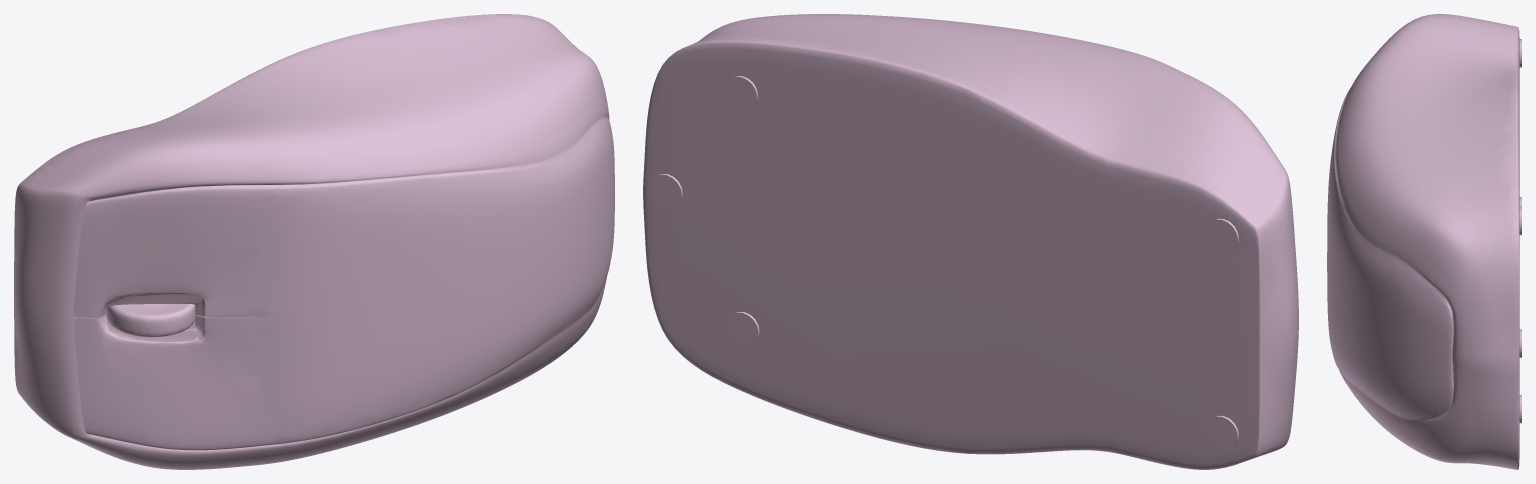
The model's file is gjhfgjfggh.fbx.
3 renders of one model, left to right at view 1: azimuth 30°, elevation 25°; view 2: azimuth 150°, elevation 25°; view 3: azimuth 270°, elevation 25°, orthographic. The views are drawn at different scales.
Visible parts, largest first — view 1: Cube_001; view 2: Cube_001; view 3: Cube_001.
Boxes of the visible parts, left/top/right/bottom form: Cube_001: left=14, top=14, right=614, bottom=469; Cube_001: left=643, top=14, right=1298, bottom=469; Cube_001: left=1327, top=14, right=1521, bottom=469.
Bounding box in the file's own units: 10.09 × 5.74 × 3.34.
